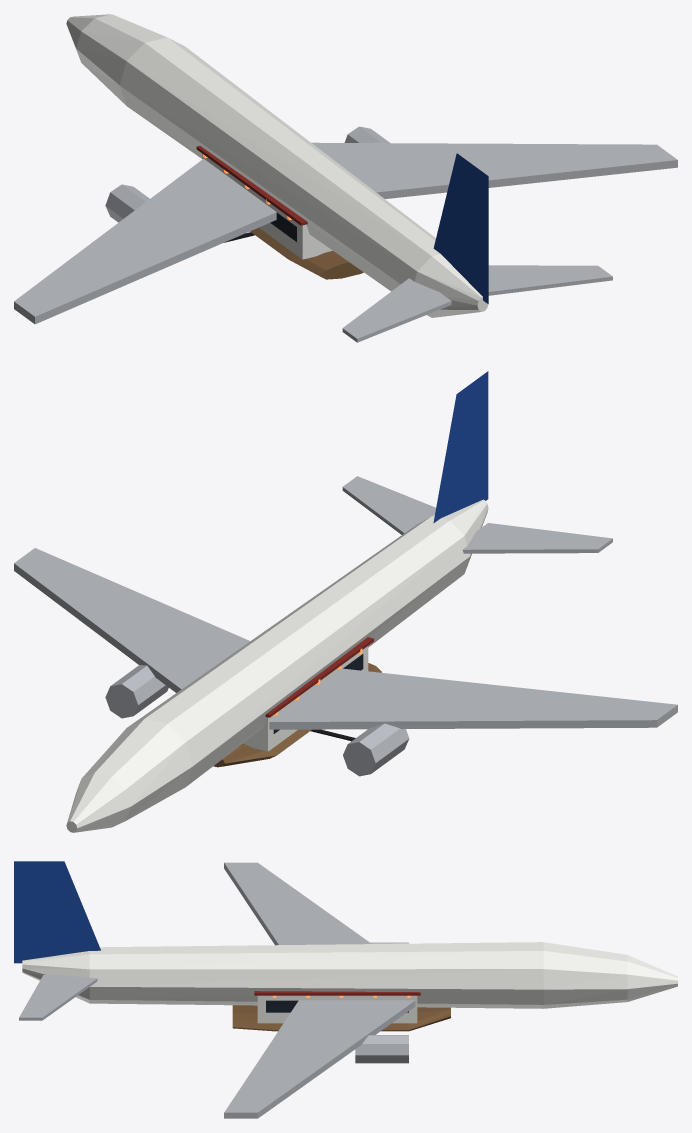
File: scenery.glb
The picture shows the model from 3 angles, top to bottom: view 1: azimuth 30°, elevation 25°; view 2: azimuth 150°, elevation 25°; view 3: azimuth 270°, elevation 25°; orthographic projection. The views are drawn at different scales.
Visible parts, largest first — view 1: SK_Plane, BT_Yakata; view 2: SK_Plane, BT_Yakata; view 3: SK_Plane, BT_Yakata.
Boxes of the visible parts, x1,y1,x2,y2 form: SK_Plane: (14,14,677,342); BT_Yakata: (196,146,363,279); SK_Plane: (14,371,677,832); BT_Yakata: (213,637,381,767); SK_Plane: (14,861,677,1118); BT_Yakata: (232,991,450,1031).
Size of the model in its own units: 35.2 by 10.58 by 39.5.
